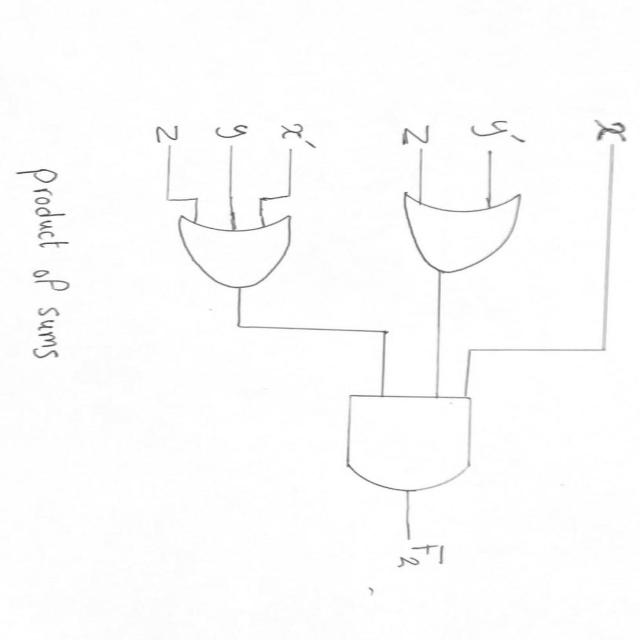OR: (320, 382, 509, 501), (385, 182, 544, 279), (171, 208, 322, 293)
